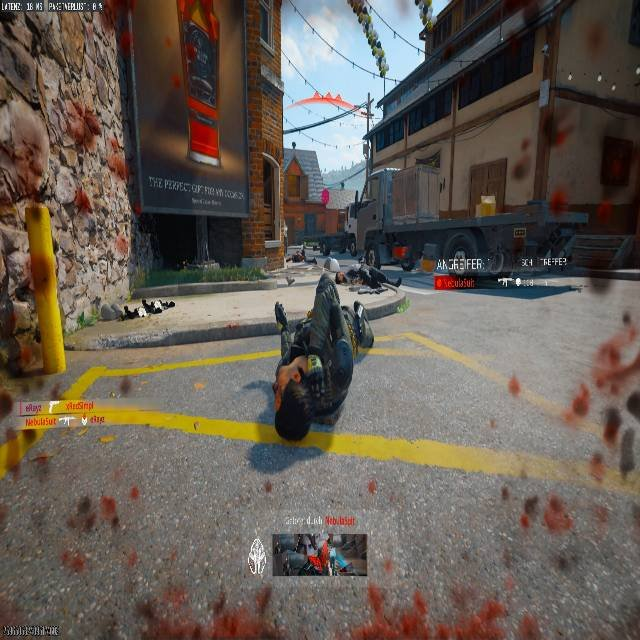player: (342, 227, 356, 256)
